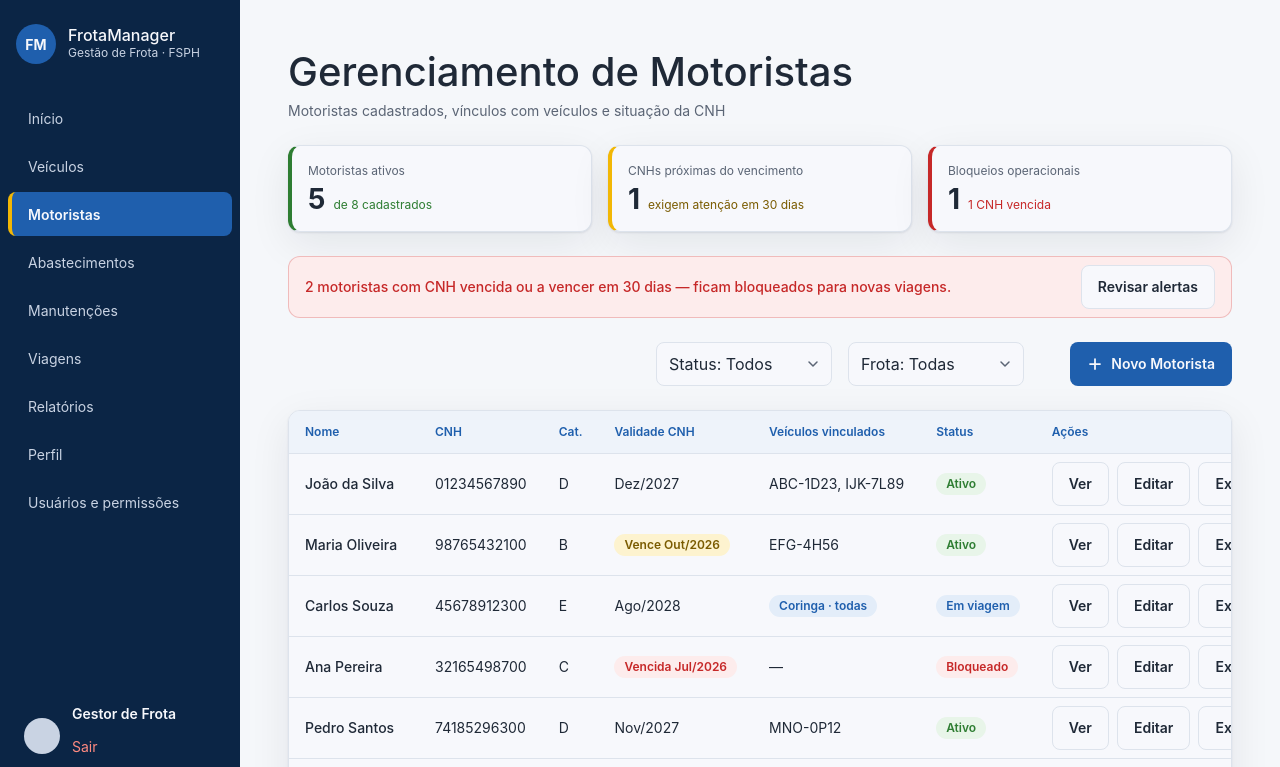
Scenario: abre os detalhes de um motorista
The width and height of the screenshot is (1280, 767).
Step 1. Click the link with aria-label "Ver detalhes de João da Silva" → (1080, 484), box [1052,462,1109,506]
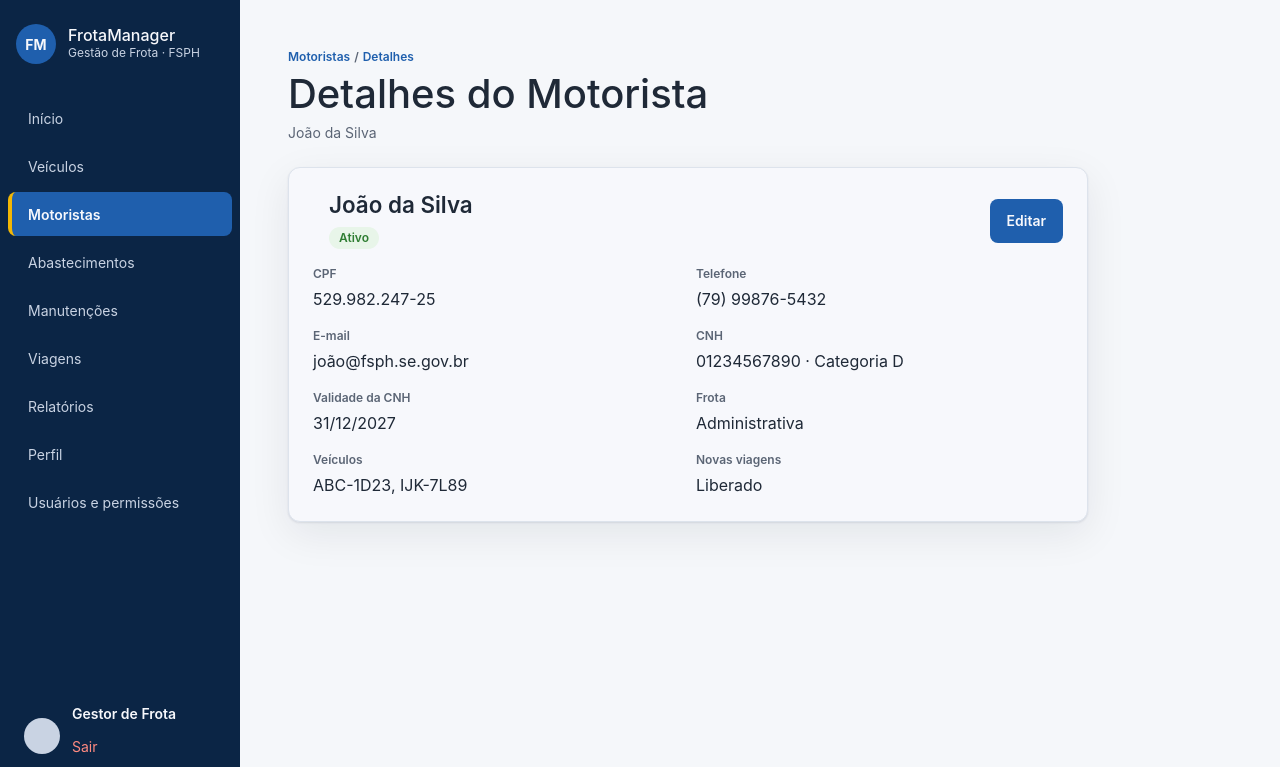
Check: the heading "João da Silva" is shown, box [329,192,473,219]
Check: the text "529.982.247-25" is shown, box [313,289,435,309]
Check: the text "Liberado" is shown, box [696,475,762,495]
